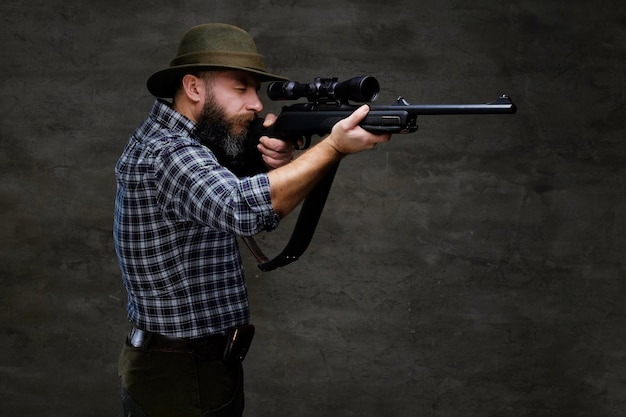gun: (239, 77, 516, 179)
